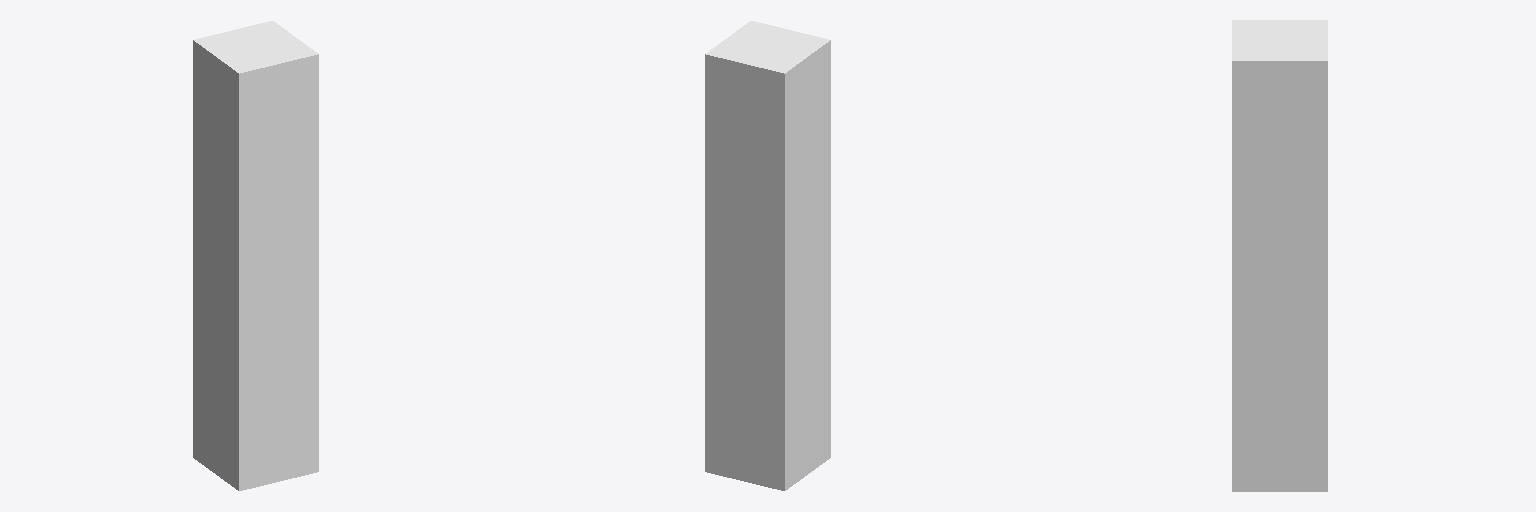
The robot description file, URDF, robot "actor_gazebo":
<?xml version="1.0" ?>
<!-- =================================================================================== -->
<!-- |    This document was autogenerated by xacro from actor_1.urdf.xacro             | -->
<!-- |    EDITING THIS FILE BY HAND IS NOT RECOMMENDED                                 | -->
<!-- =================================================================================== -->
<robot name="actor_gazebo">
  <material name="Red">
    <color rgba="1 0 0 1"/>
  </material>
  <material name="Green">
    <color rgba="0 1 0 1"/>
  </material>
  <material name="Blue">
    <color rgba="0 0 1 1"/>
  </material>
  <material name="White">
    <color rgba="1 1 1 1"/>
  </material>
  <link name="actor_base_link">
    <inertial>
      <origin rpy="0.0 0.0 0.0" xyz="0.0 0.0 0.0"/>
      <mass value="70.0"/>
      <!--inertia ixx="4.166666666666668e-05" ixy="0.0" ixz="0.0" iyy="4.166666666666668e-05" iyz="0.0" izz="4.166666666666668e-05"/-->
      <inertia ixx="1.0" ixy="0.0" ixz="0.0" iyy="1.0" iyz="0.0" izz="1.0"/>
    </inertial>
    <visual>
      <origin rpy="0.0 0.0 0.0" xyz="0.0 0.0 0.0"/>
      <geometry>
        <box size="0.3 0.3 1.5"/>
      </geometry>
      <material name="White"/>
    </visual>
    <collision>
      <origin rpy="0.0 0.0 0.0" xyz="0.0 0.0 0.0"/>
      <geometry>
        <box size="0.3 0.3 1.5"/>
      </geometry>
    </collision>
  </link>
  <gazebo reference="actor_base_link">
    <material>Gazebo/White</material>
    <gravity>0</gravity>
  </gazebo>
</robot>

--- What the picture shows (computed from the rendered views, not written in the file) ---
The picture shows the robot from 3 angles, left to right: view 1: azimuth 30°, elevation 25°; view 2: azimuth 150°, elevation 25°; view 3: azimuth 270°, elevation 25°; orthographic projection.
Model actor_gazebo with 1 links and 0 joints (none), rooted at actor_base_link, posed every joint at zero.
Visible links, largest first — view 1: actor_base_link; view 2: actor_base_link; view 3: actor_base_link.
Link boxes in pixels (left/top/right/bottom): actor_base_link: left=193, top=21, right=318, bottom=490; actor_base_link: left=705, top=21, right=830, bottom=490; actor_base_link: left=1232, top=20, right=1327, bottom=491.
Size in the robot's own frame: 0.3 by 0.3 by 1.5 metres.
Geometry: primitives only (box / cylinder / sphere), no mesh files.